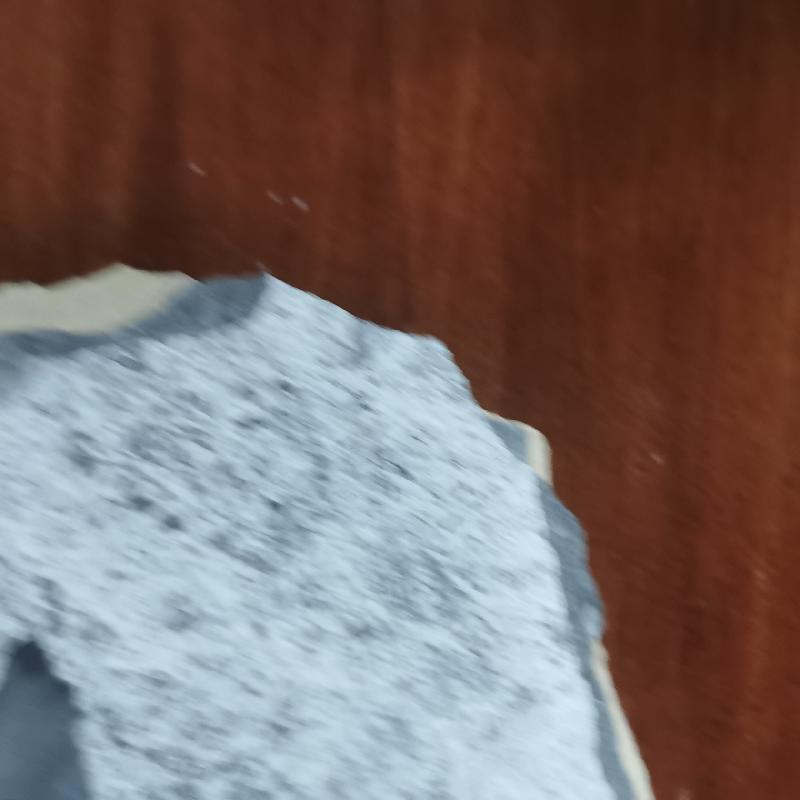tile: (1, 253, 663, 799)
